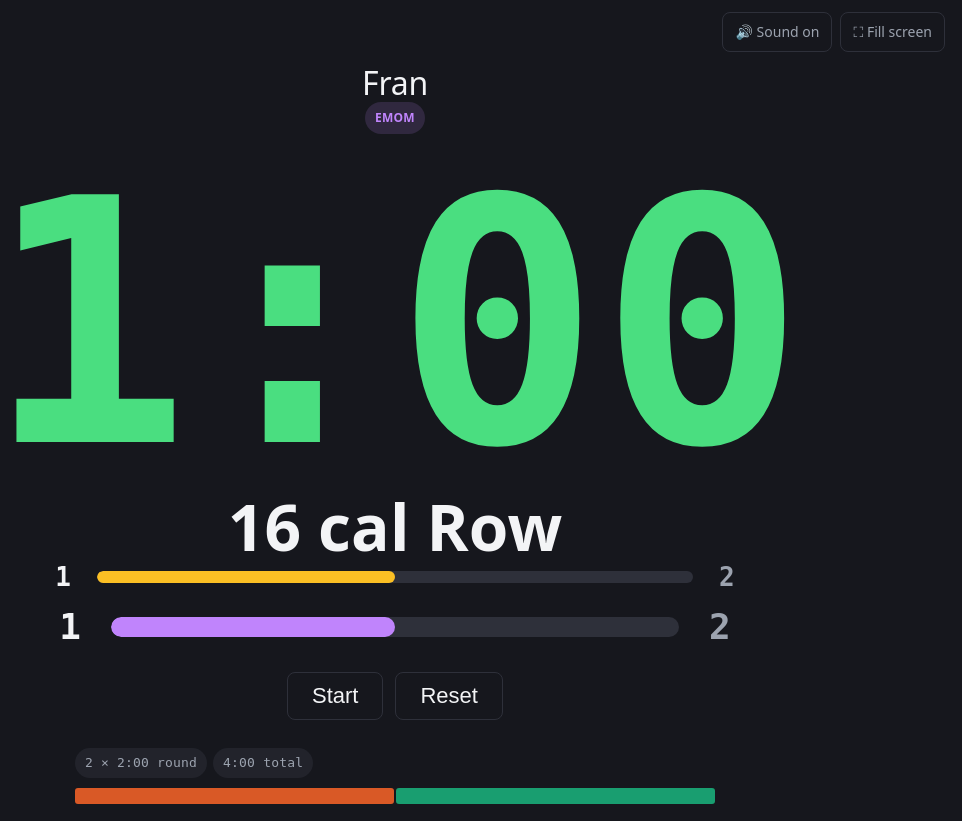
a workout with a clock › counts the lead-in down before the workout
Click the button "Start" at (335, 696), box [287,672,384,720]
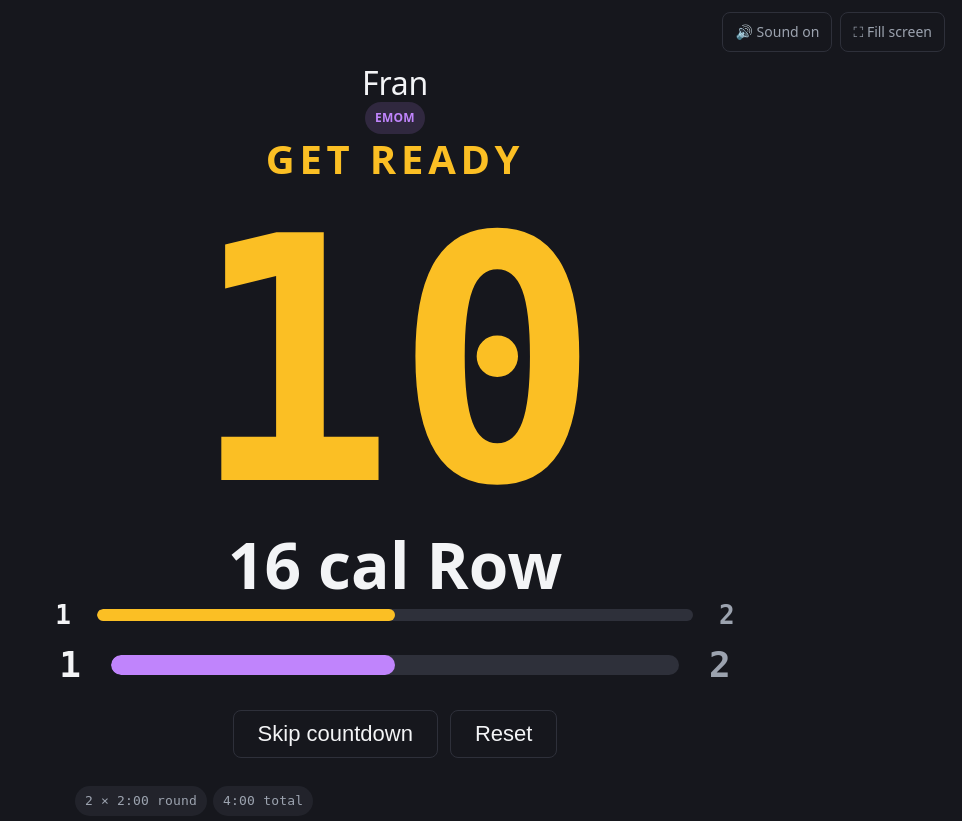
Now the text "Get ready" is shown, box [266,146,524,172]
Now the button "Skip countdown" is shown, box [233,710,438,758]
